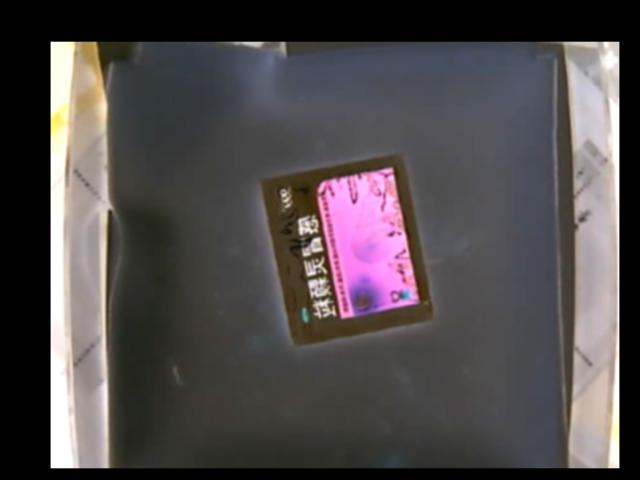Medicine: (257, 153, 429, 345)
